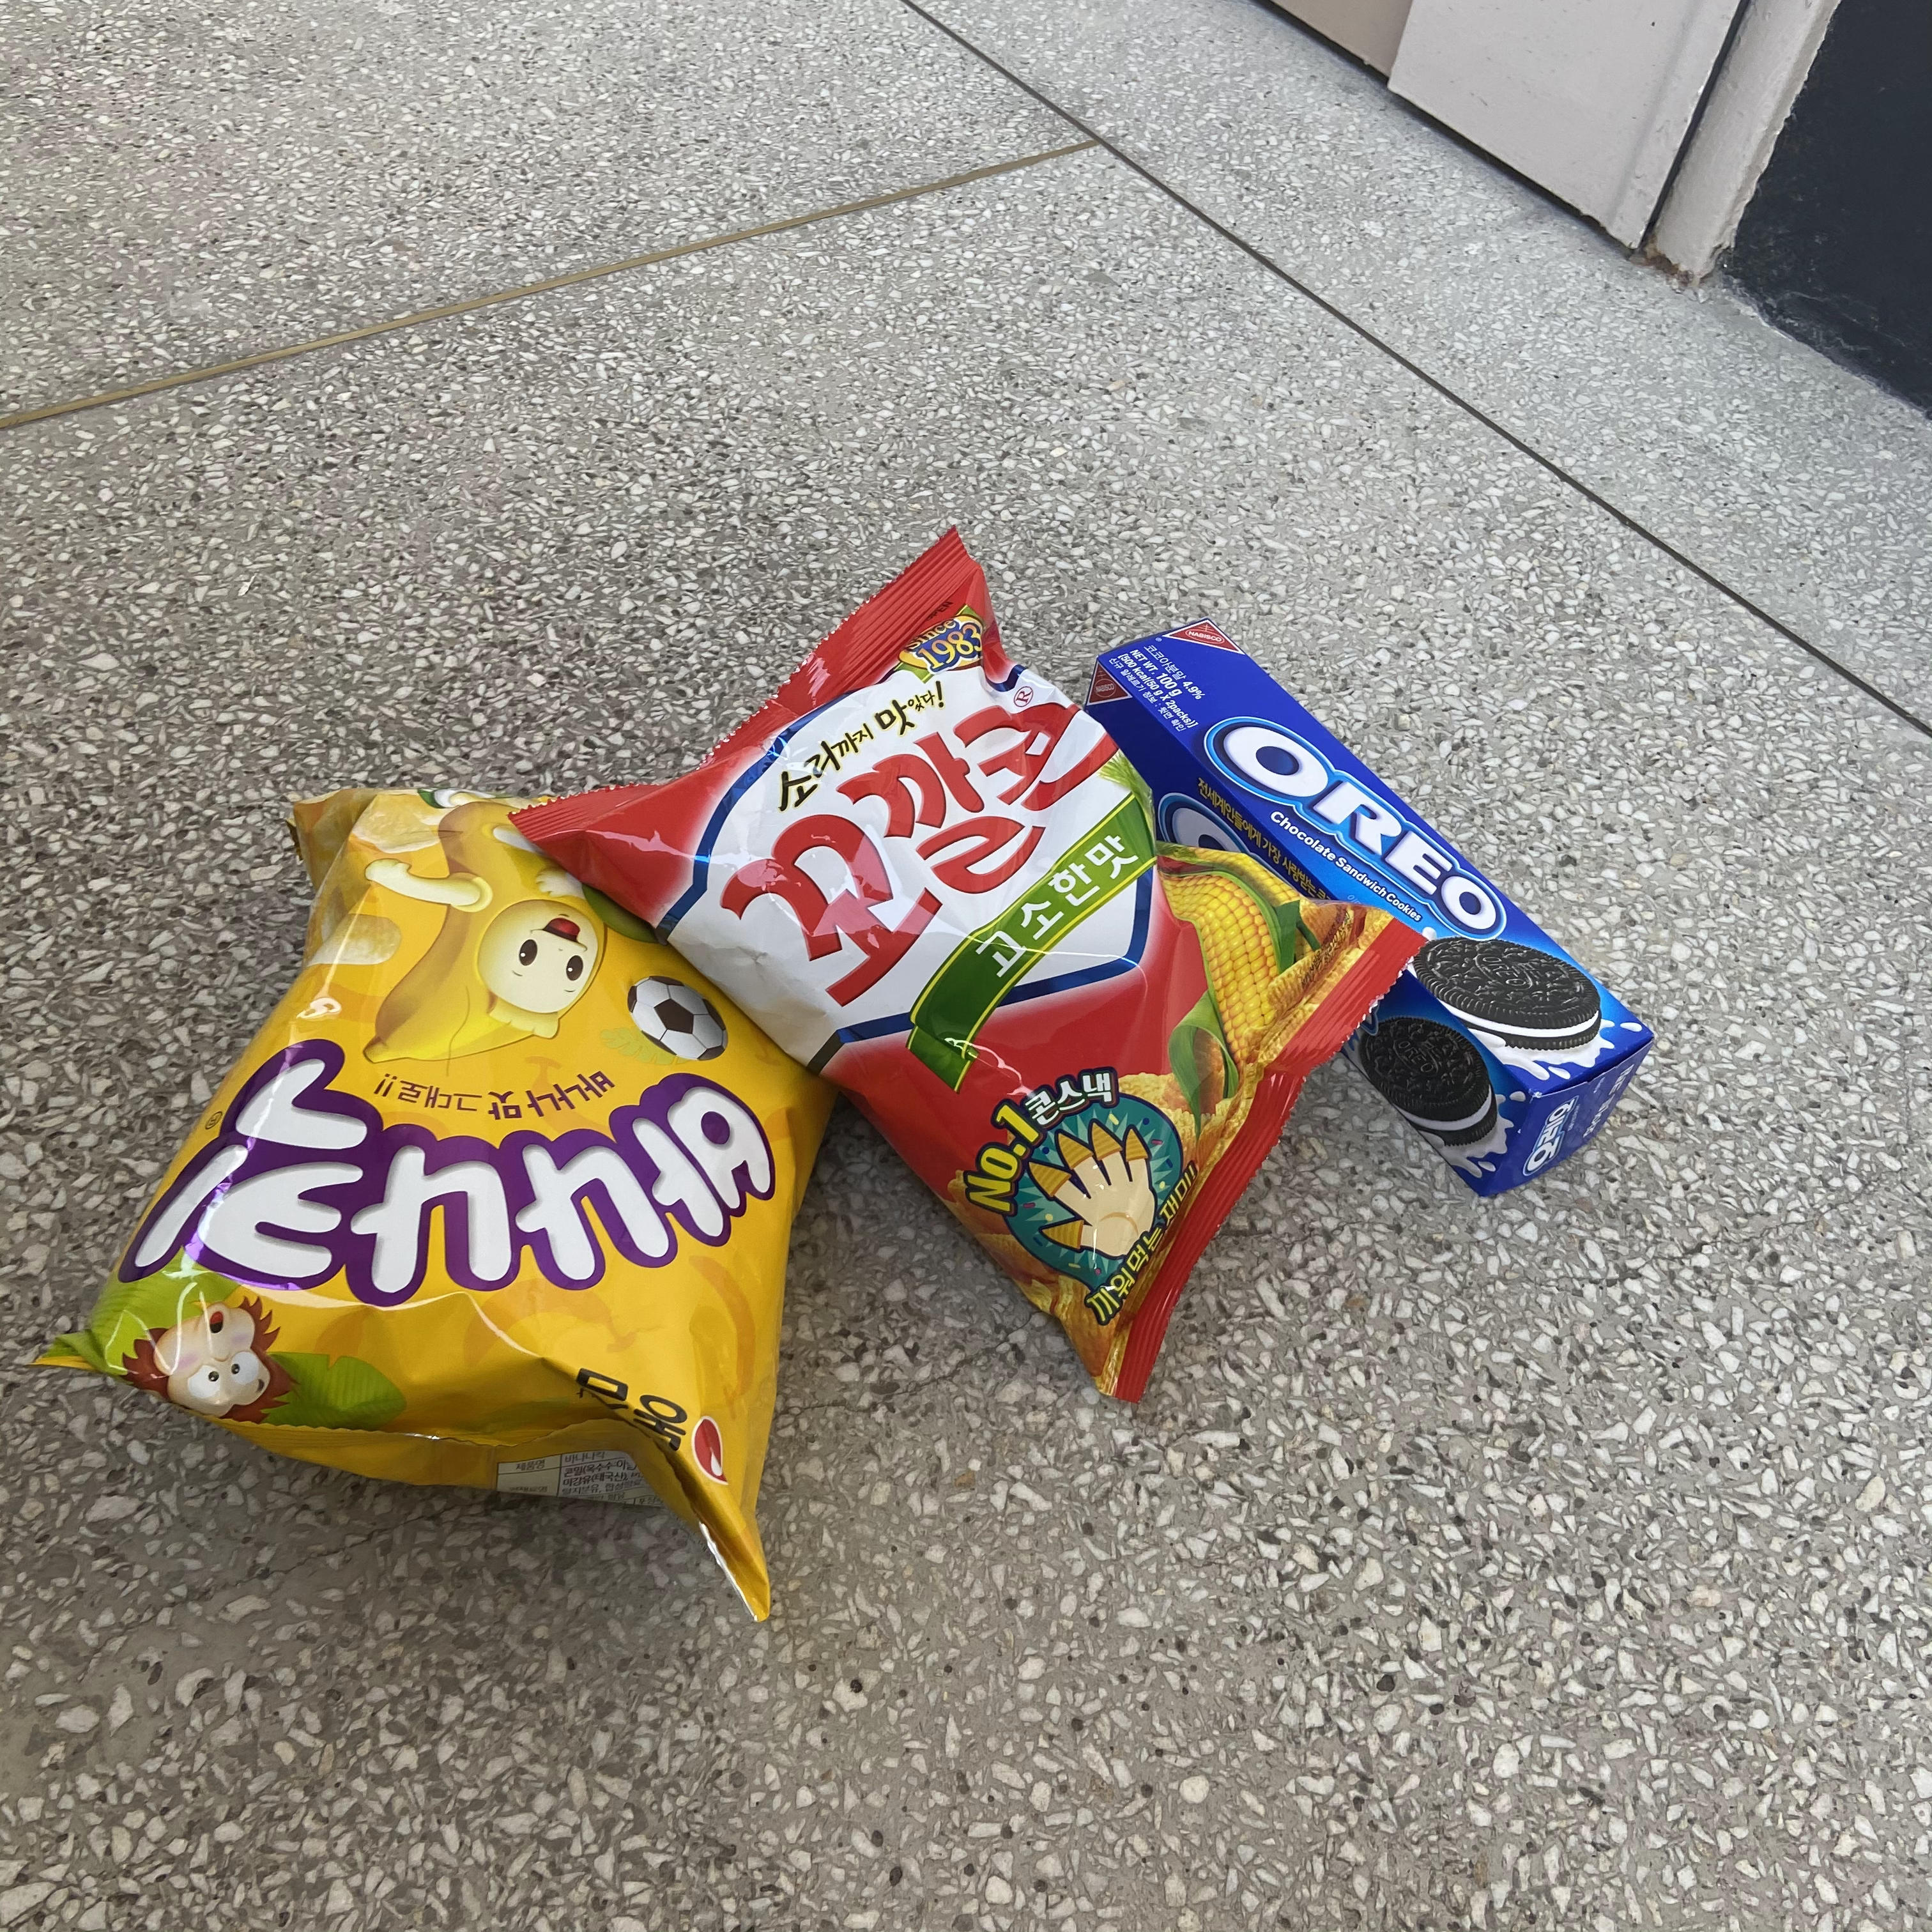banana: (12, 780, 844, 1642)
ggoggalcon: (495, 495, 1428, 1422)
oreo: (1067, 594, 1660, 1198)
